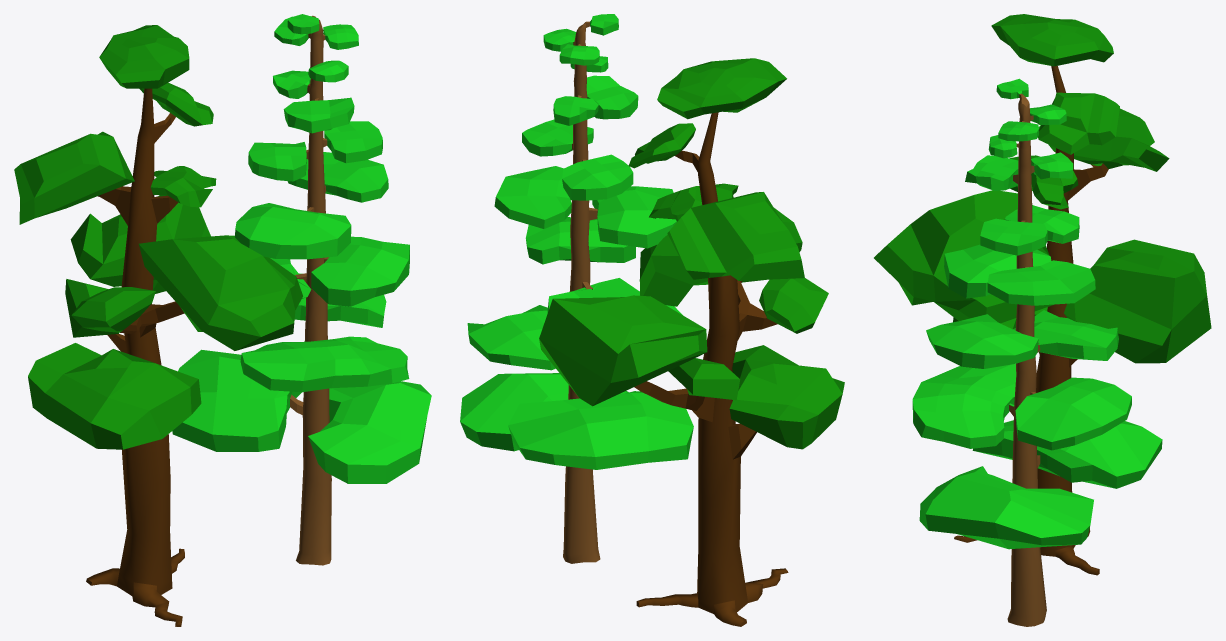
The model's file is baum_d002.FBX.
The picture shows the model from 3 angles, left to right: view 1: azimuth 30°, elevation 25°; view 2: azimuth 150°, elevation 25°; view 3: azimuth 270°, elevation 25°; orthographic projection. The views are drawn at different scales.
Visible parts, largest first — view 1: Baum_D002; view 2: Baum_D002; view 3: Baum_D002.
Boxes of the visible parts, left/top/right/bottom form: Baum_D002: left=14, top=14, right=431, bottom=626; Baum_D002: left=460, top=14, right=844, bottom=626; Baum_D002: left=874, top=14, right=1211, bottom=626.
Size of the model in its own units: 45.48 by 63.52 by 36.95.
